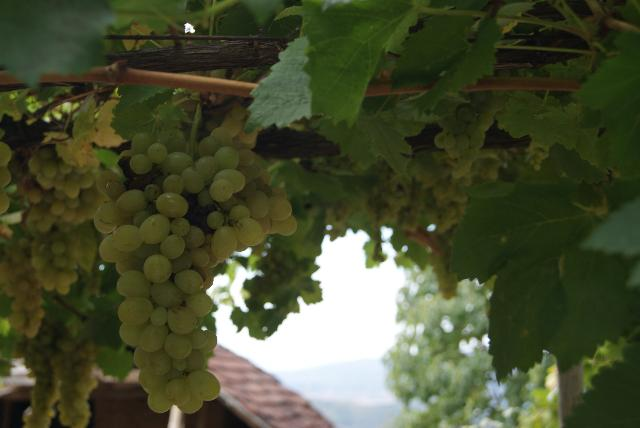grapes: (94, 128, 296, 411), (51, 334, 98, 428), (28, 145, 95, 199)
